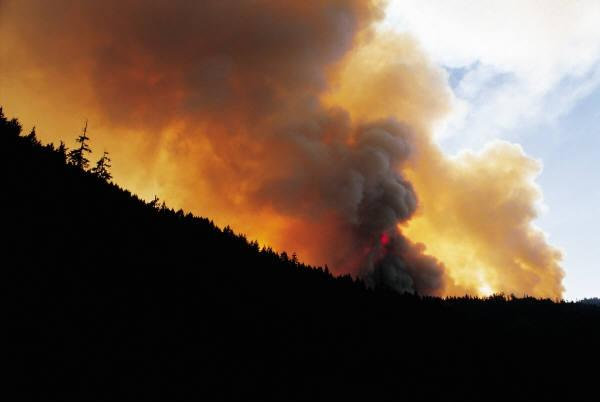smoke: (2, 1, 455, 302), (330, 31, 568, 305)
